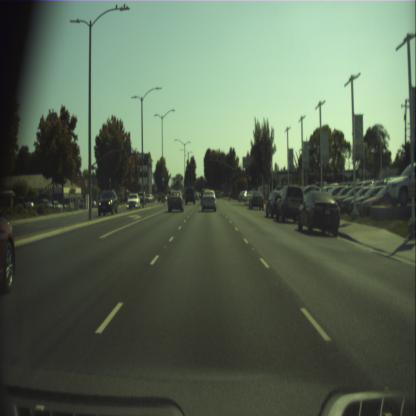Green: (245, 167, 247, 176), (236, 176, 237, 183)
Red: (184, 178, 186, 185), (161, 182, 163, 186)
